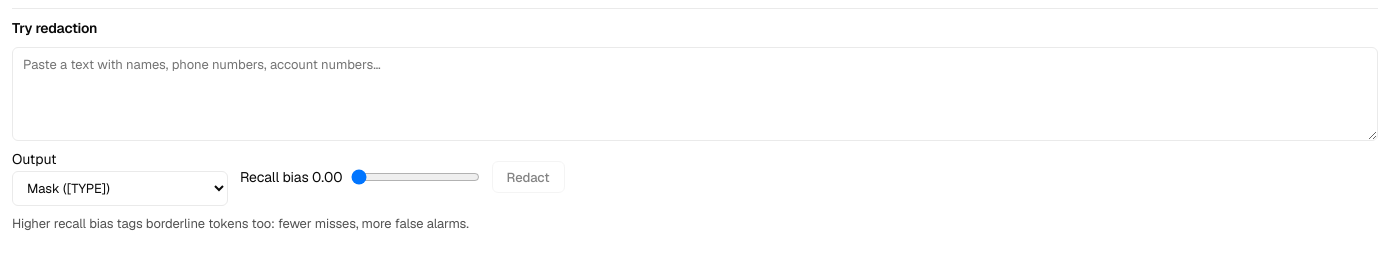
Test: RedactionTryBox › shows the server message when there is no span run
Type "hello" into the text box named "Text to redact".
click(695, 94); type("hello")  # box [12,47,1378,141]
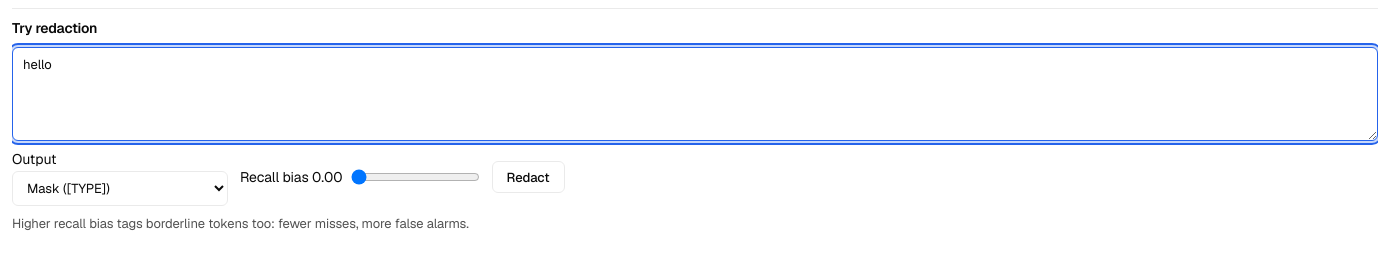
Click the button "Redact".
click(528, 177)  # box [492,161,564,193]
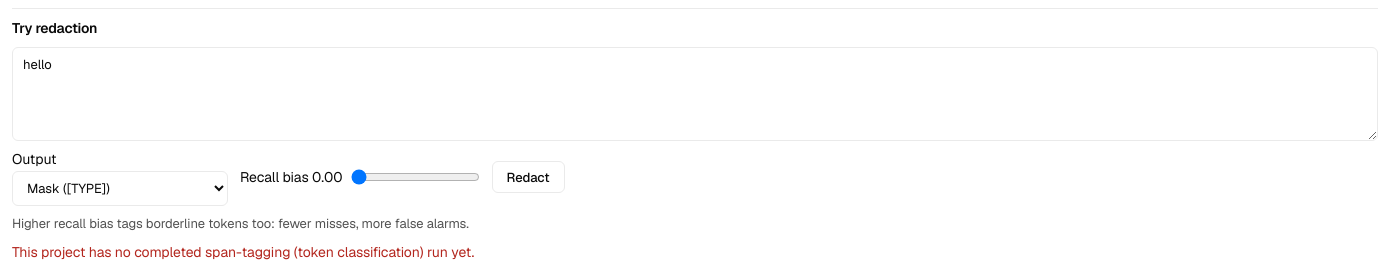
Check: the message shows "no completed span-tagging", box [12,243,474,261]
